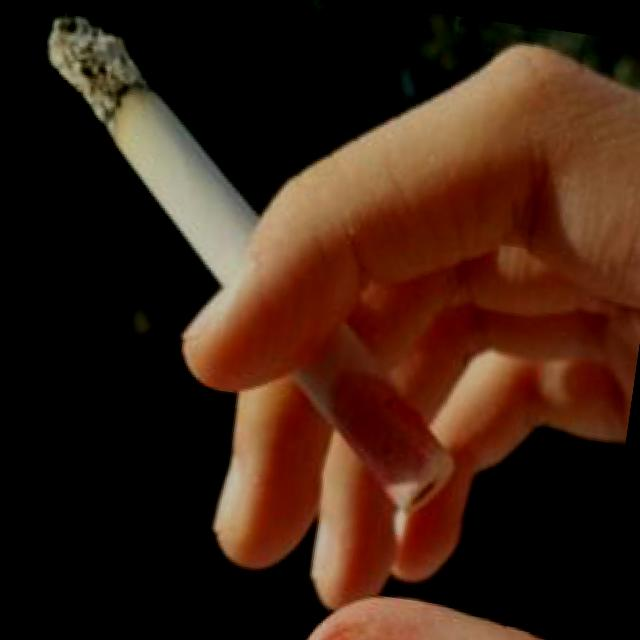cigarette: (10, 0, 276, 268)
